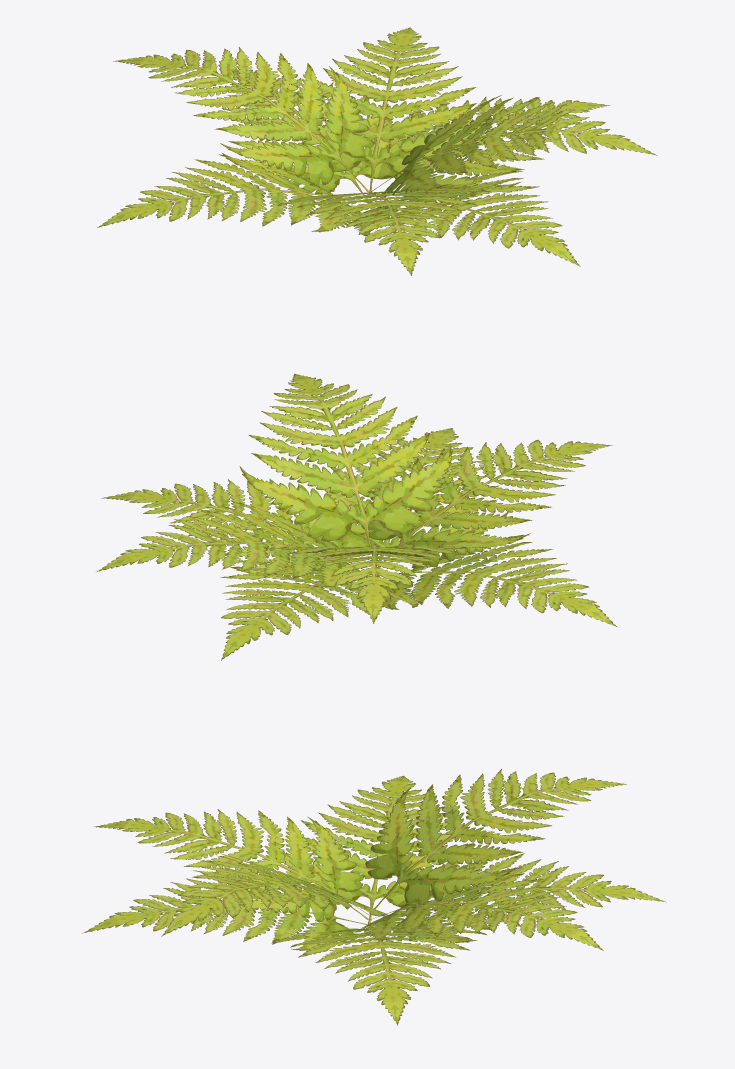
The model's file is samambaia.fbx.
3 views of the same model, one above another, from view 1: azimuth 30°, elevation 25°; view 2: azimuth 150°, elevation 25°; view 3: azimuth 270°, elevation 25° (orthographic).
Parts seen in each view (by area): view 1: folha 8; view 2: folha 8; view 3: folha 8.
Part boxes in pixels (box(x1,y1,x2,y2)): folha 8: box(97, 27, 657, 275); folha 8: box(96, 373, 617, 660); folha 8: box(82, 769, 666, 1025).
Bounding box in the file's own units: 193 × 31.3 × 198.
1 material, 1 textured.
